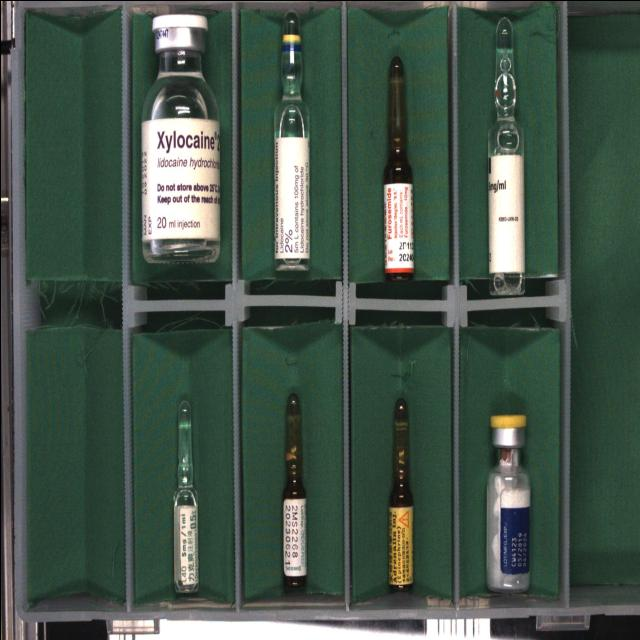Vials: (141, 13, 219, 261), (486, 414, 529, 591)
